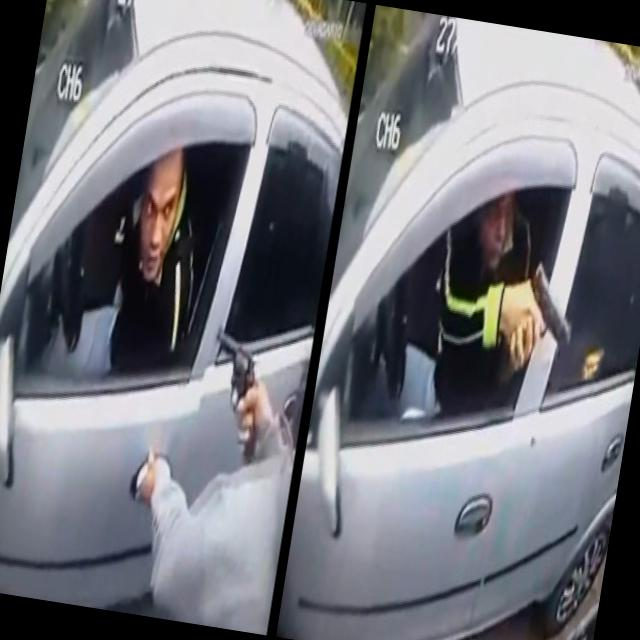handgun: (195, 324, 273, 461), (506, 252, 583, 374)
